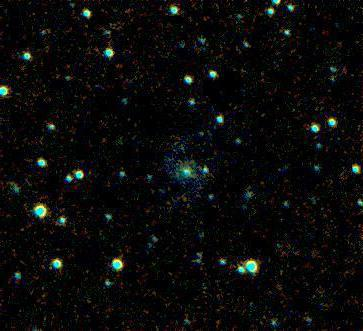star: (106, 54, 136, 84)
